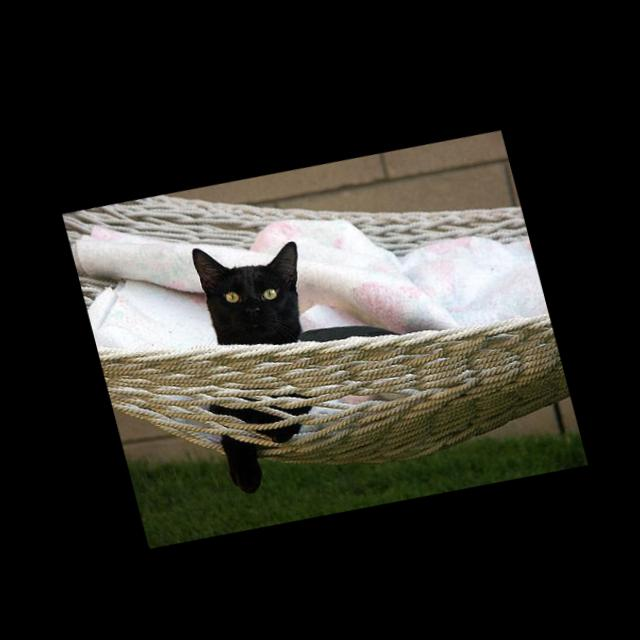animals: (192, 220, 310, 328)
